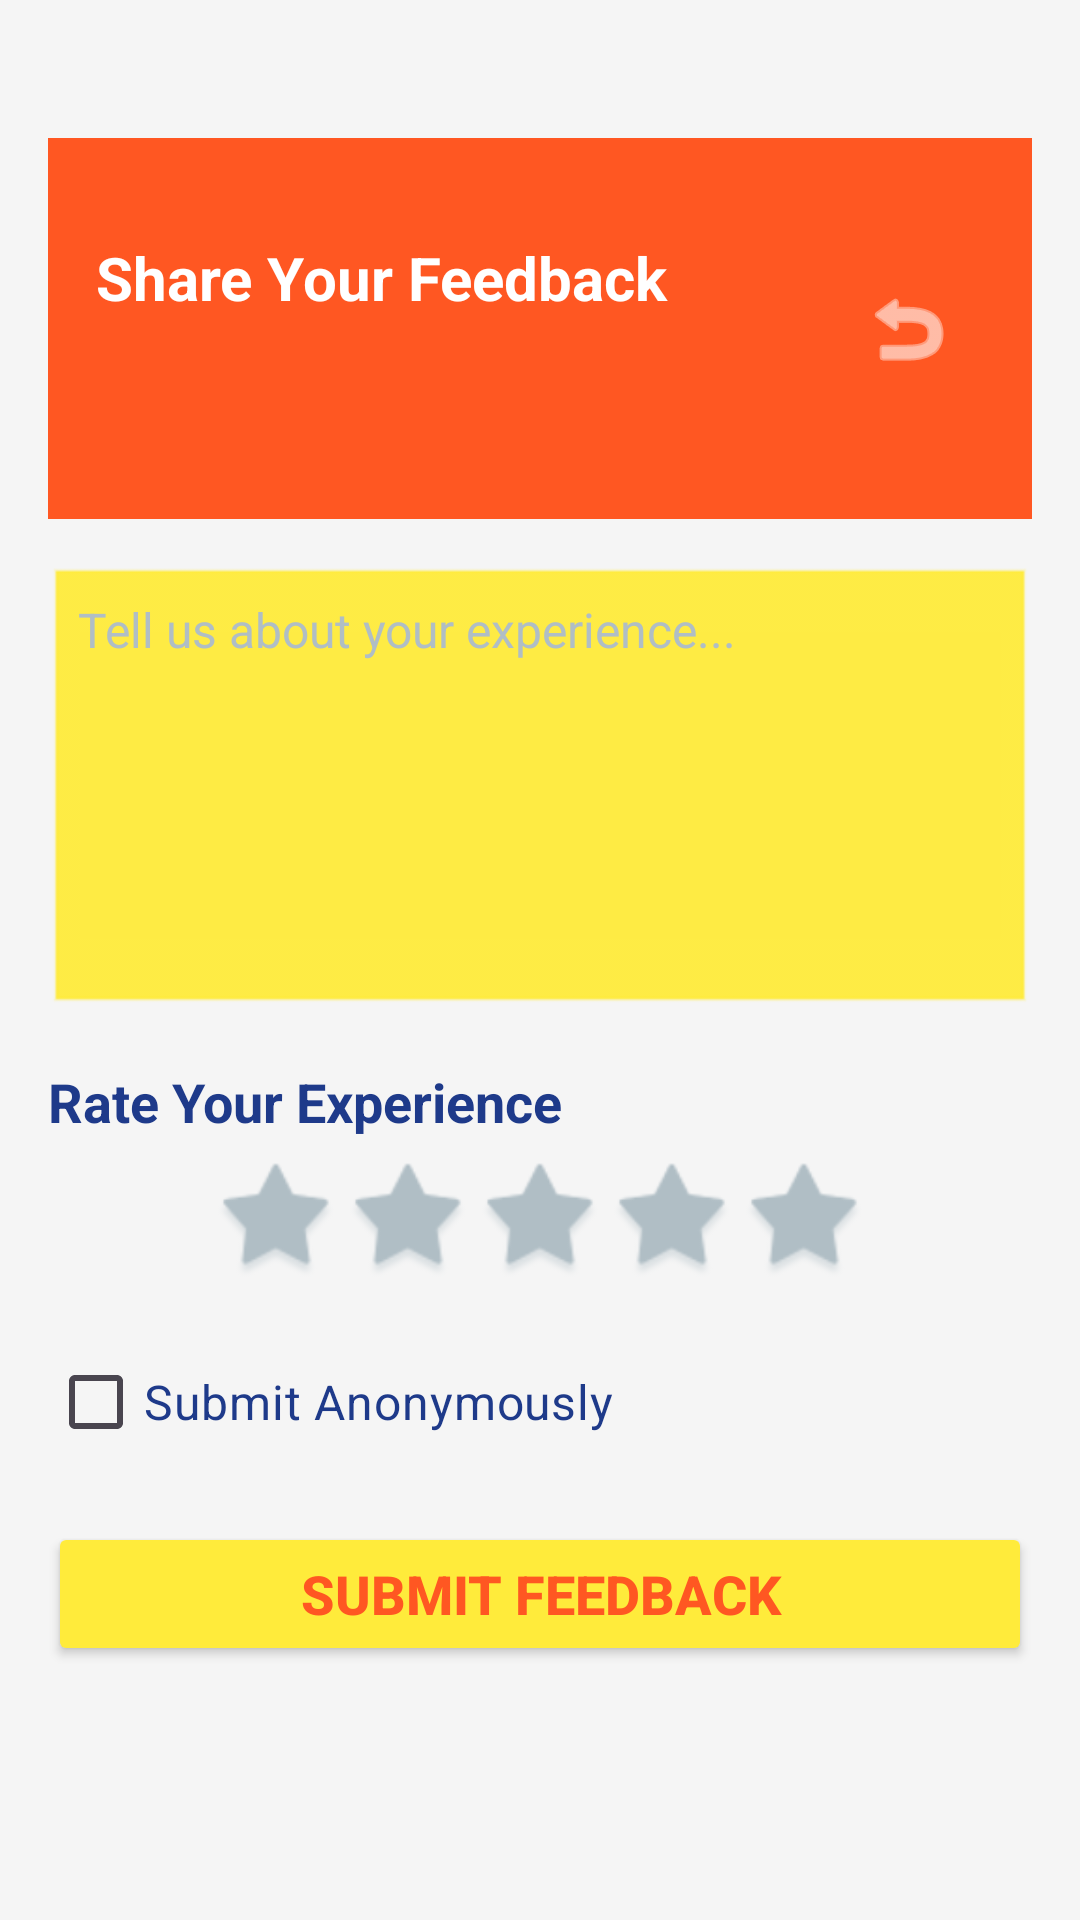

Locate icon controls on the screen. Image size 1080x1920, boxes as (left=x1, top=y1, right=x2, bottom=y2).
revert: (left=875, top=298, right=944, bottom=361)
Star 1: (left=223, top=1164, right=328, bottom=1266)
Star 2: (left=355, top=1164, right=460, bottom=1266)
Star 3: (left=487, top=1164, right=592, bottom=1266)
Star 4: (left=619, top=1164, right=724, bottom=1266)
Star 5: (left=751, top=1164, right=856, bottom=1266)
